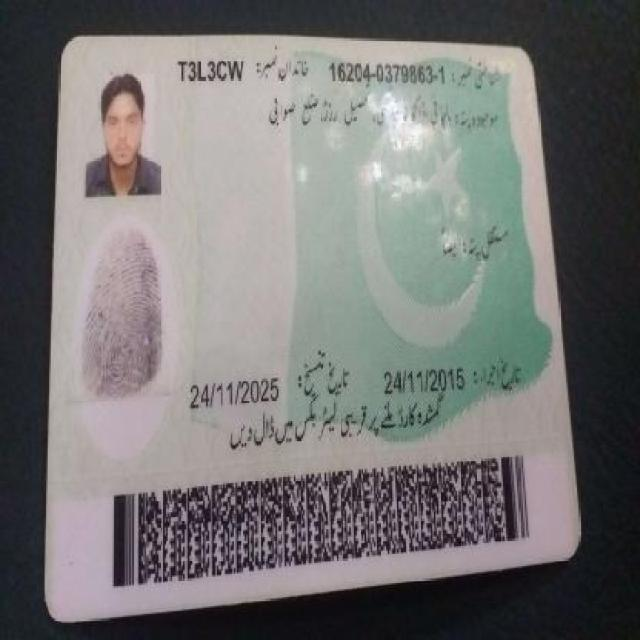Back: (60, 41, 568, 582)
